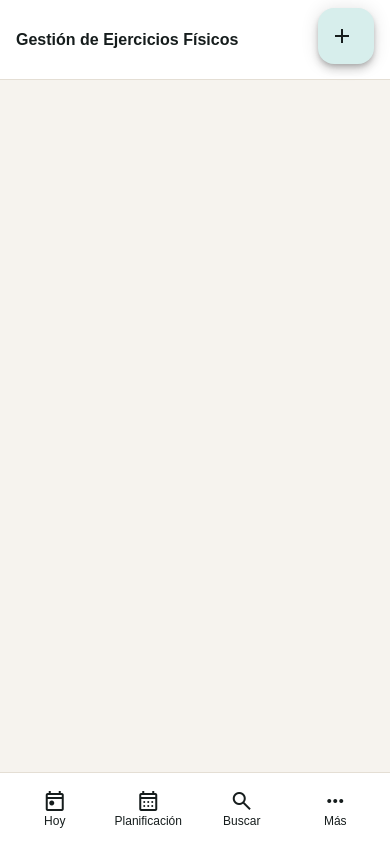
ShellComponent (navegación) › abre Más como panel inferior y lo cierra al elegir una opción
Click the button with class "shell__mas-toggle" at (335, 808), box [288,773,382,843]
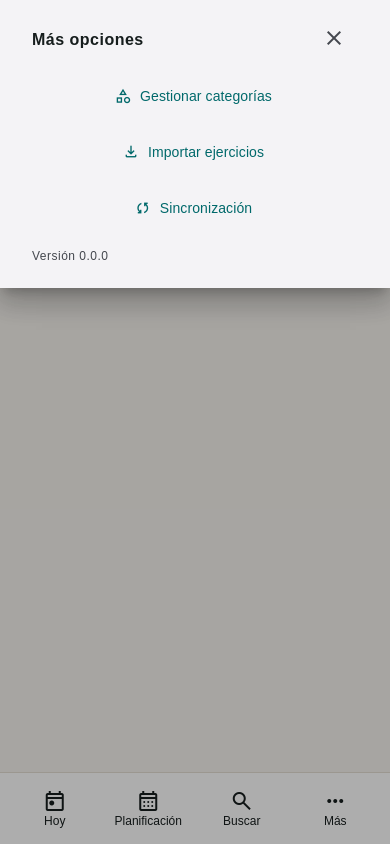
Click the link to "/sincronizacion" at (195, 208), box [32,184,358,232]
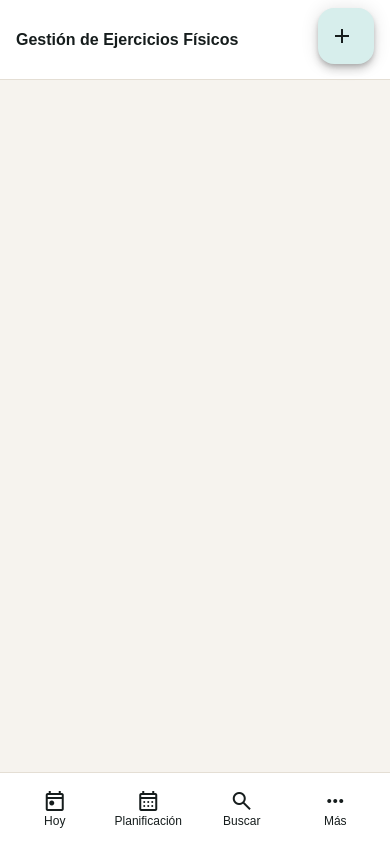
Result: the element with class "shell__panel-mas" is gone
